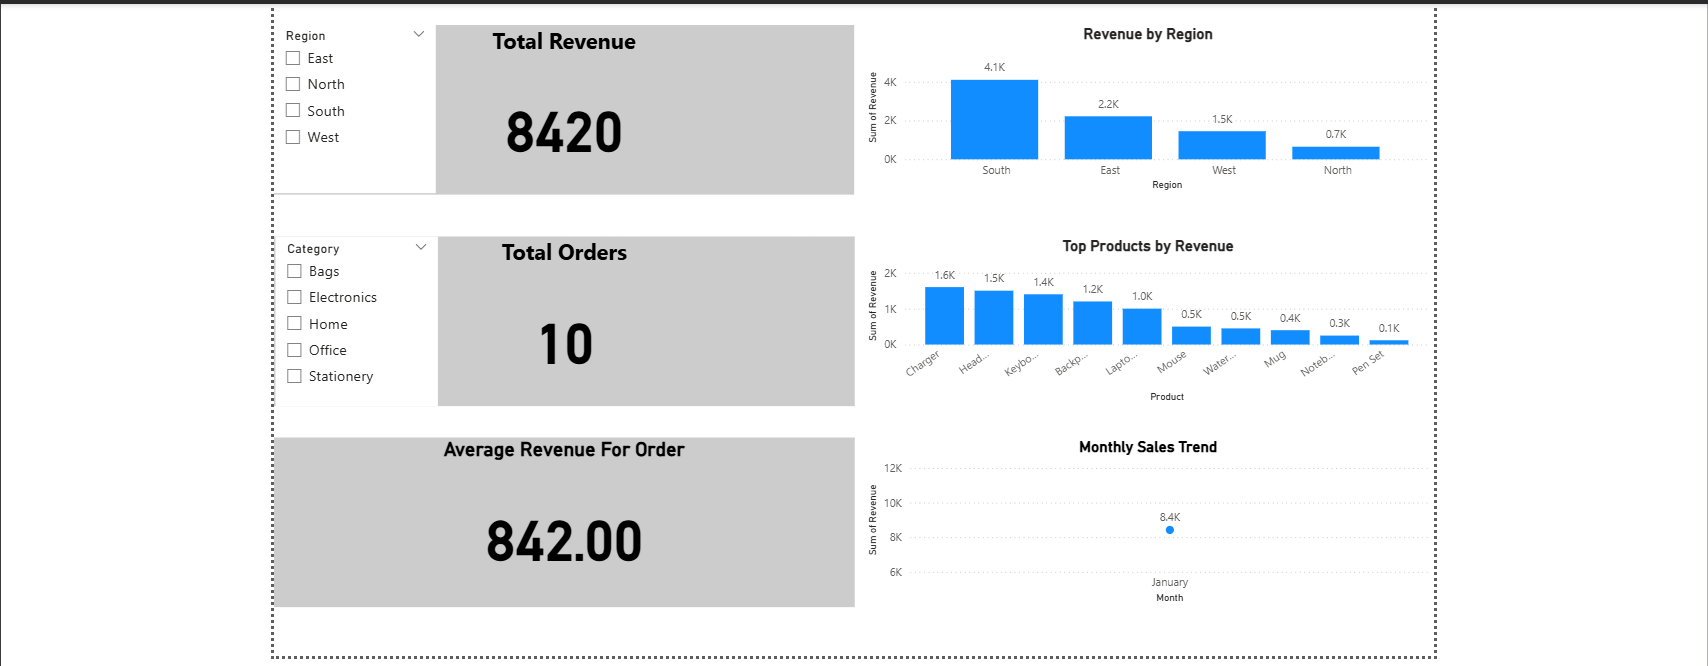

What the dashboard file says about the page in this screenshot:
{"tool":"powerbi","page":{"name":"Page 1","canvas":[1280,720],"ordinal":0},"visuals":[{"type":"card","title":"Total Revenue","fields":{"Values":["Sum(Sales_Data.Revenue)"]},"box":[0,22.7,640.6,187.1],"z":1000},{"type":"card","title":"Total Orders","fields":{"Values":["CountNonNull(Sales_Data.Order ID)"]},"box":[0,256.5,641,187],"z":1001},{"type":"card","title":"Average Revenue For Order","fields":{"Values":["Avg(Sales_Data.Revenue)"]},"box":[0,478.5,641,187],"z":1002},{"type":"clusteredColumnChart","title":"Revenue by Region","fields":{"Category":["Sales_Data.Region"],"Y":["Sum(Sales_Data.Revenue)"]},"box":[651,23,629,187],"z":1003},{"type":"clusteredColumnChart","title":" Top Products by Revenue","fields":{"Category":["Sales_Data.Product"],"Y":["Sum(Sales_Data.Revenue)"]},"box":[651,257,629,187],"z":1004},{"type":"lineChart","title":"Monthly Sales Trend","fields":{"Category":["Sales_Data.Order Date.Variation.Date Hierarchy.Year","Sales_Data.Order Date.Variation.Date Hierarchy.Quarter","Sales_Data.Order Date.Variation.Date Hierarchy.Month","Sales_Data.Order Date.Variation.Date Hierarchy.Day"],"Y":["Sum(Sales_Data.Revenue)"]},"box":[651,479,629,187],"z":1005},{"type":"slicer","fields":{"Values":["Sales_Data.Category"]},"box":[1.9,257,179.5,187.1],"z":1006},{"type":"slicer","fields":{"Values":["Sales_Data.Region"]},"box":[0,21.5,178.9,187.2],"z":1007}]}

Visuals, with their boxes on the page's 1280x720 design canvas (x1, y1, x2, y2). These are canvas units, not pixel positions in the 1708x666 screenshot, which may show the page scaled, cropped or inside an application window:
"Total Revenue" card: BBox(0, 23, 641, 210)
"Total Orders" card: BBox(0, 256, 641, 444)
"Average Revenue For Order" card: BBox(0, 478, 641, 666)
"Revenue by Region" clusteredColumnChart: BBox(651, 23, 1280, 210)
" Top Products by Revenue" clusteredColumnChart: BBox(651, 257, 1280, 444)
"Monthly Sales Trend" lineChart: BBox(651, 479, 1280, 666)
slicer - Sales_Data.Category: BBox(2, 257, 181, 444)
slicer - Sales_Data.Region: BBox(0, 22, 179, 209)
